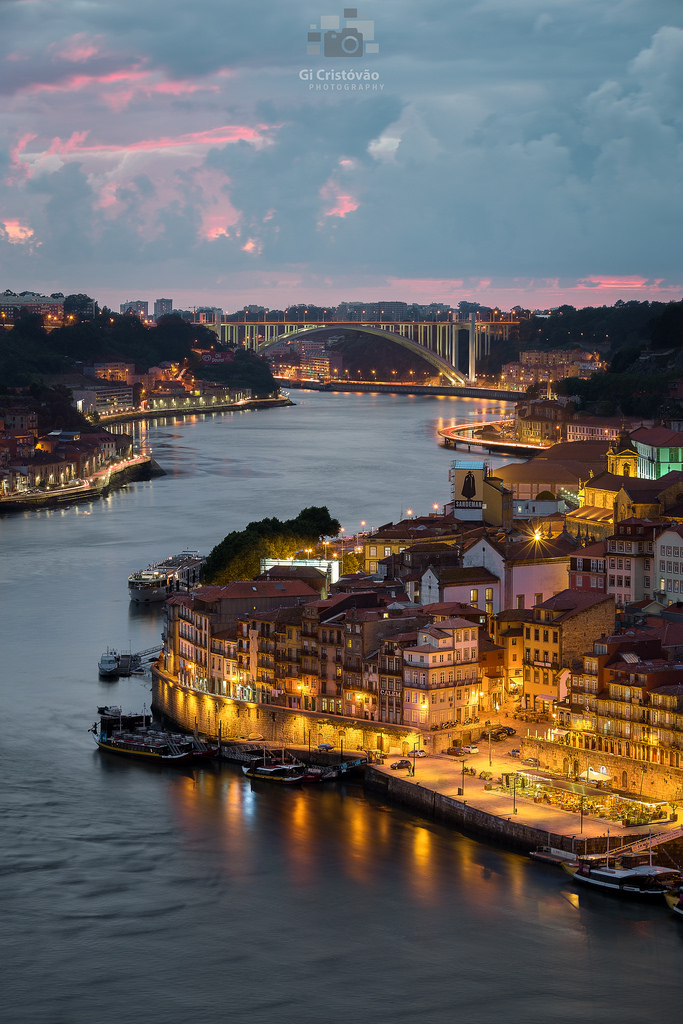arrabida: (204, 307, 496, 387)
